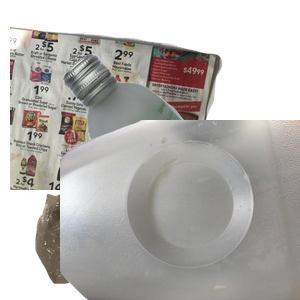glass: (60, 51, 300, 231)
paper: (10, 22, 225, 202)
plastic: (60, 120, 300, 300)
trash: (33, 145, 270, 300)
